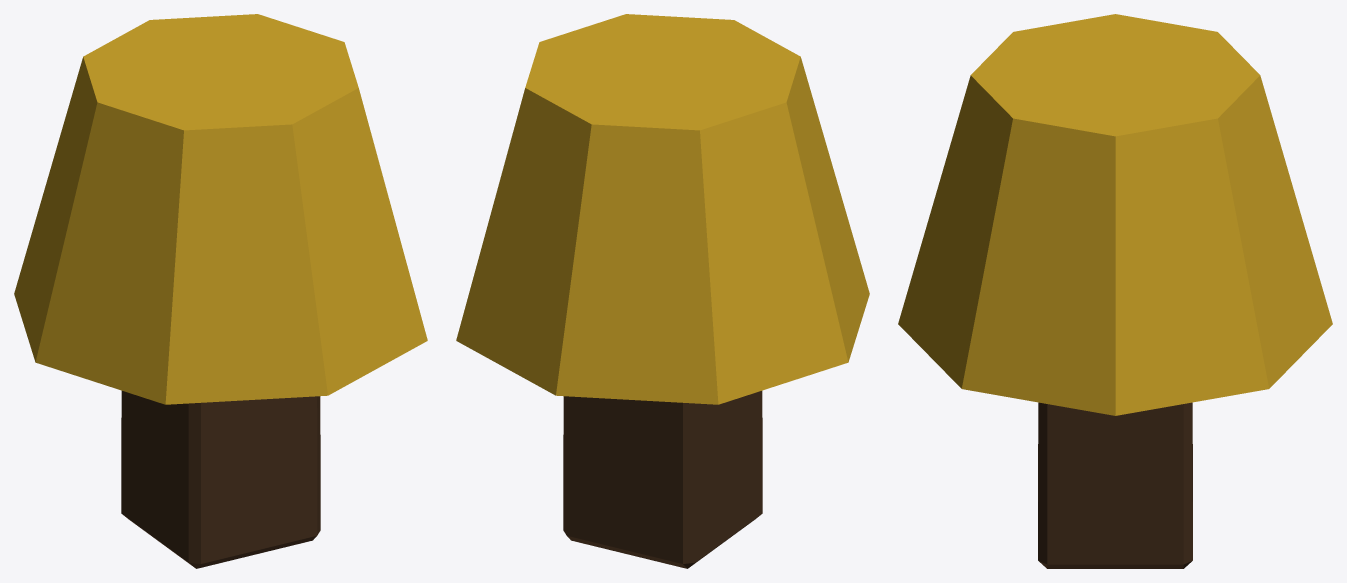
File: table-lamp-42.glb
3 renders of one model, left to right at view 1: azimuth 30°, elevation 25°; view 2: azimuth 150°, elevation 25°; view 3: azimuth 270°, elevation 25°, orthographic.
Parts seen in each view (by area): view 1: table_lamp_42; view 2: table_lamp_42; view 3: table_lamp_42.
Part boxes in pixels (bbox=[...]): table_lamp_42: bbox=[14, 14, 427, 568]; table_lamp_42: bbox=[456, 14, 869, 568]; table_lamp_42: bbox=[898, 14, 1332, 568].
Size of the model in its own units: 0.38 by 0.4483 by 0.38.
